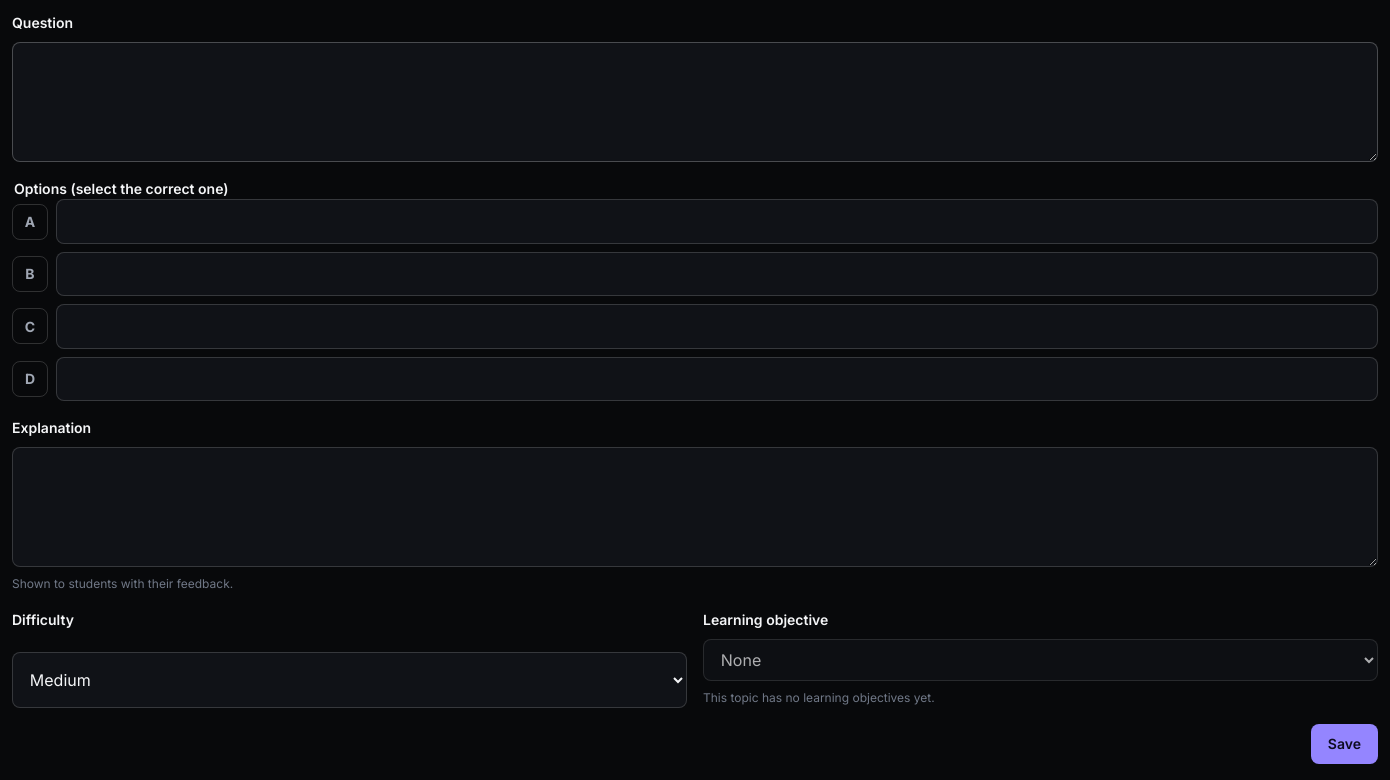
Test: Question editor › requires four different options and a correct answer
The width and height of the screenshot is (1390, 780).
Later steps or results of the test are not shown.
In the text box labelled "Question": (695, 102) [12,42,1378,162], type "What does Round Robin do on expiry?"
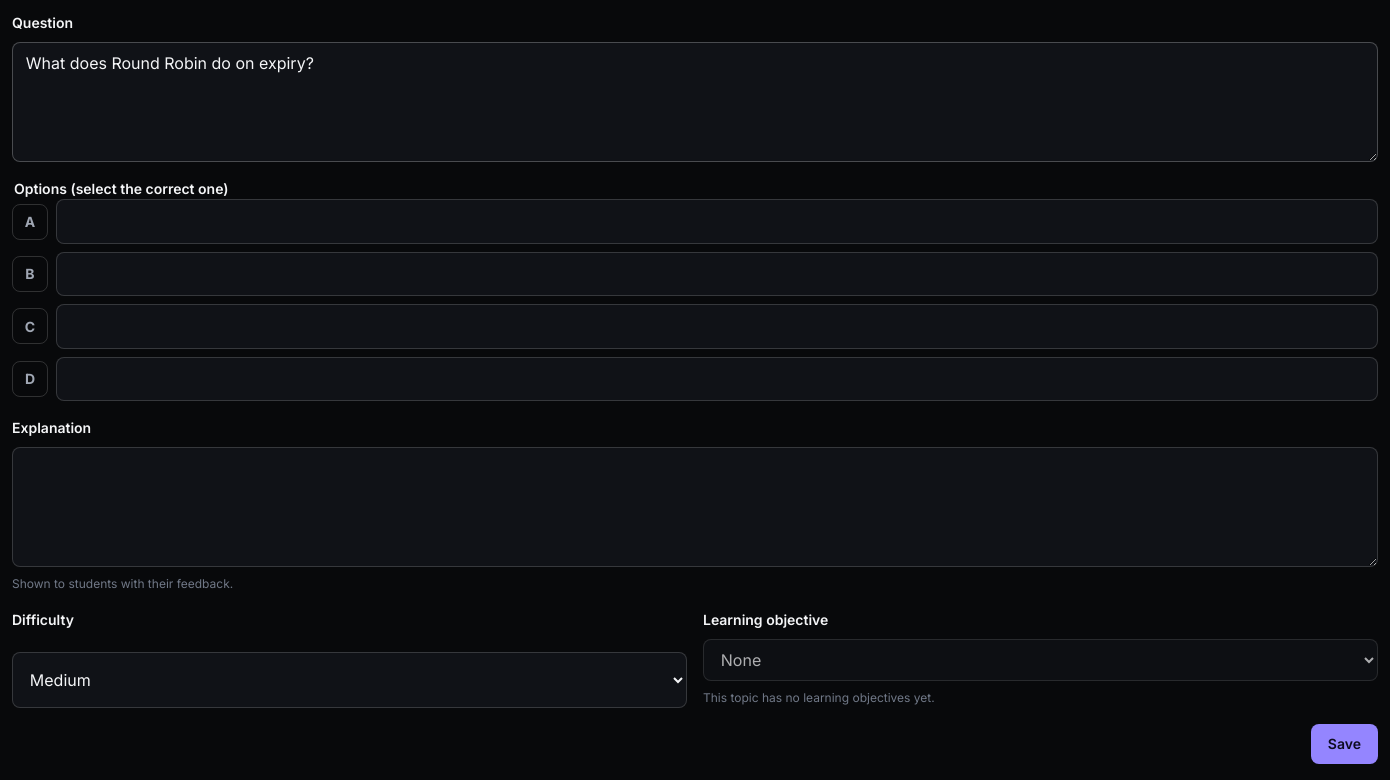
In the field named "Option A": (717, 222) [56,199,1378,244], type "Same"
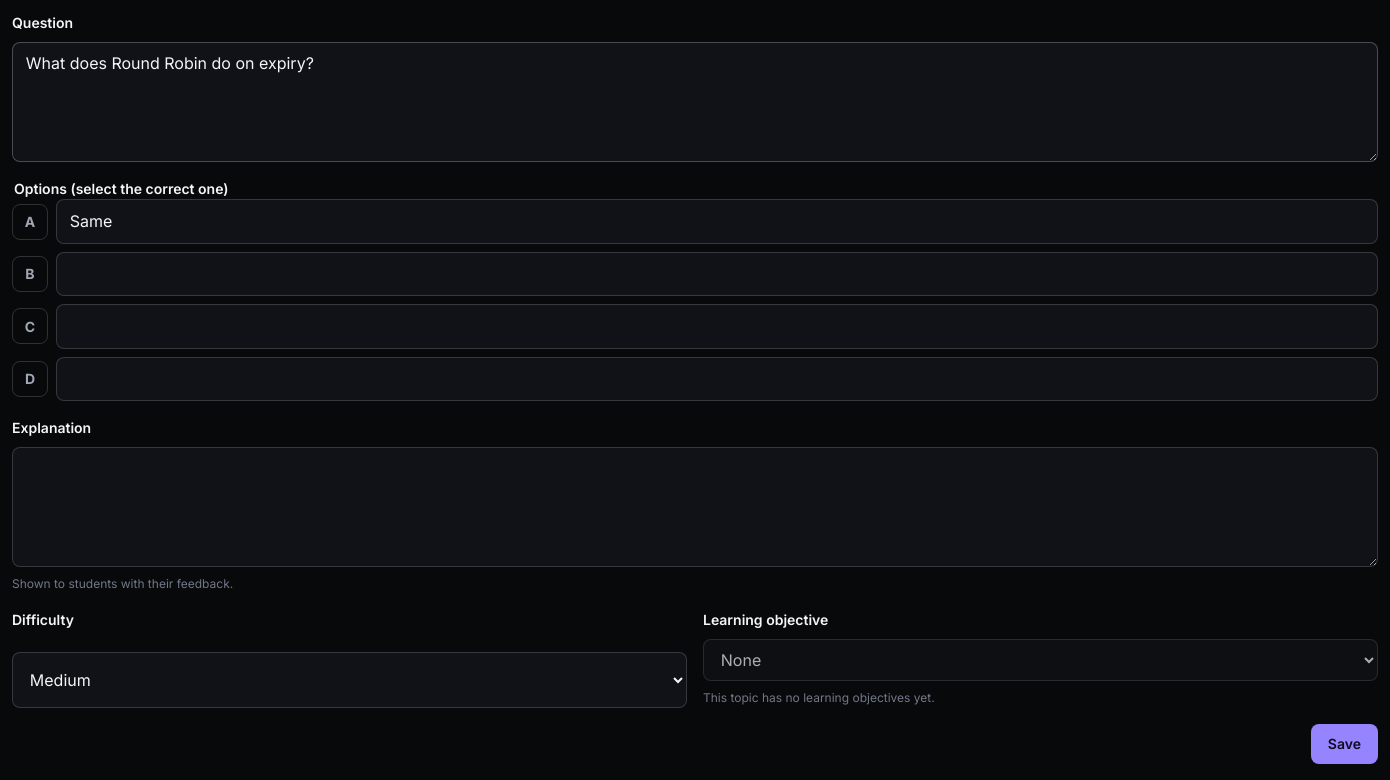
In the field named "Option B": (717, 274) [56,252,1378,296], type "Same"
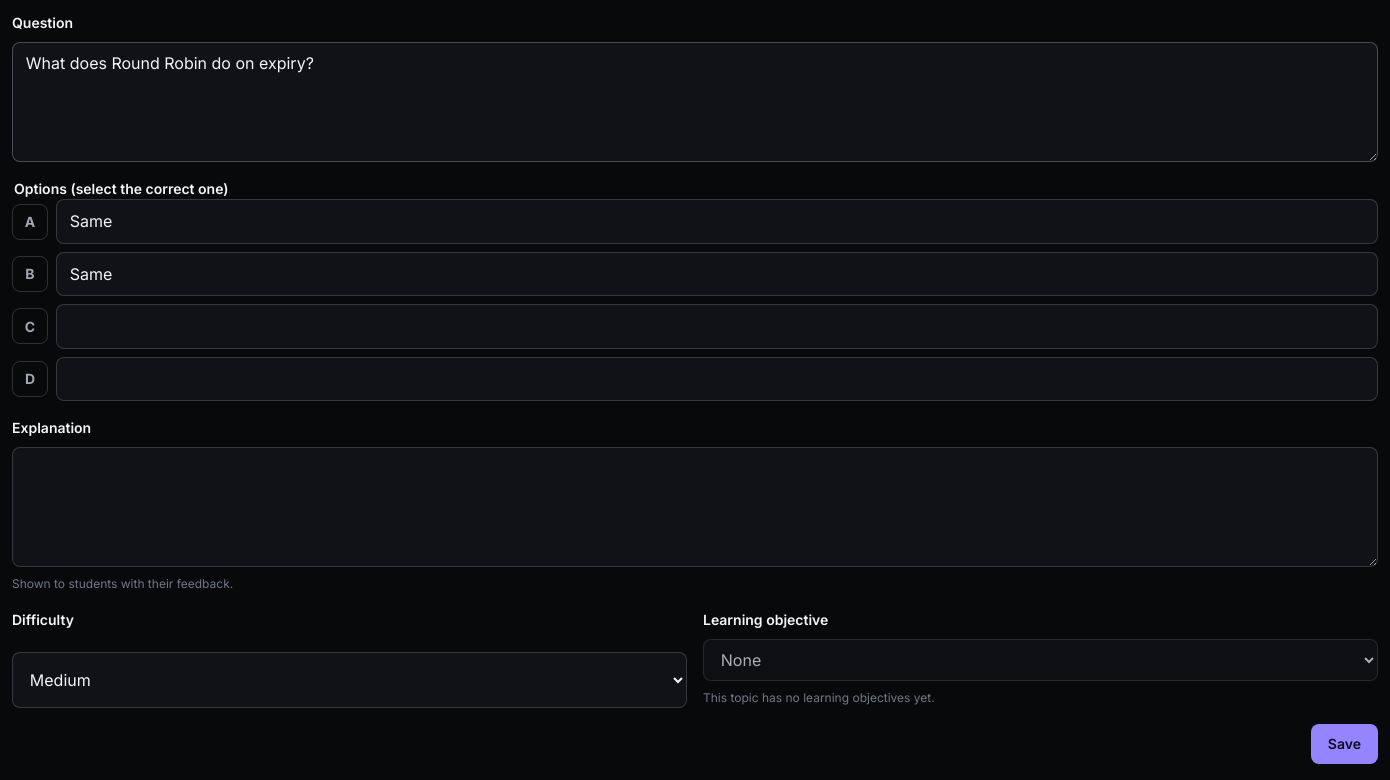
In the field named "Option C": (717, 326) [56,304,1378,349], type "Same"
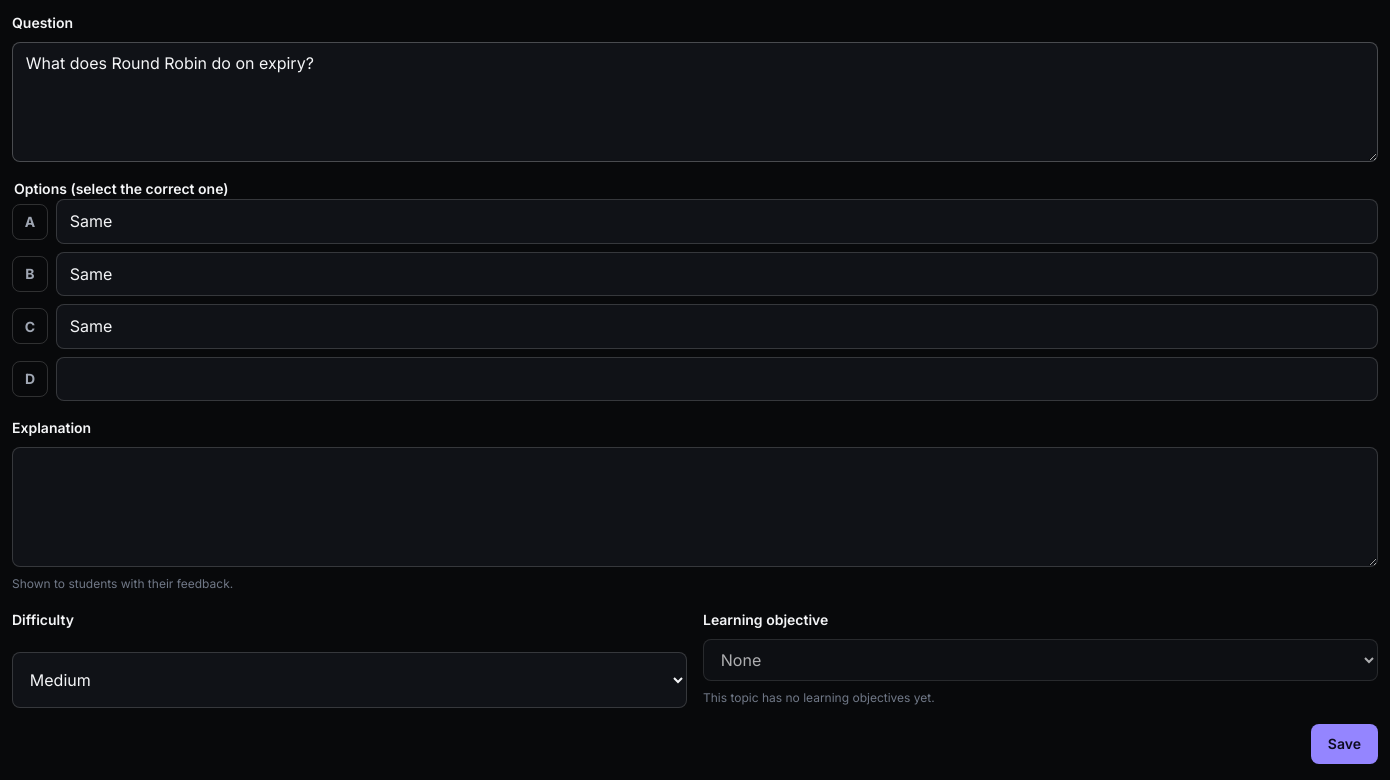
In the field named "Option D": (717, 379) [56,356,1378,401], type "Same"
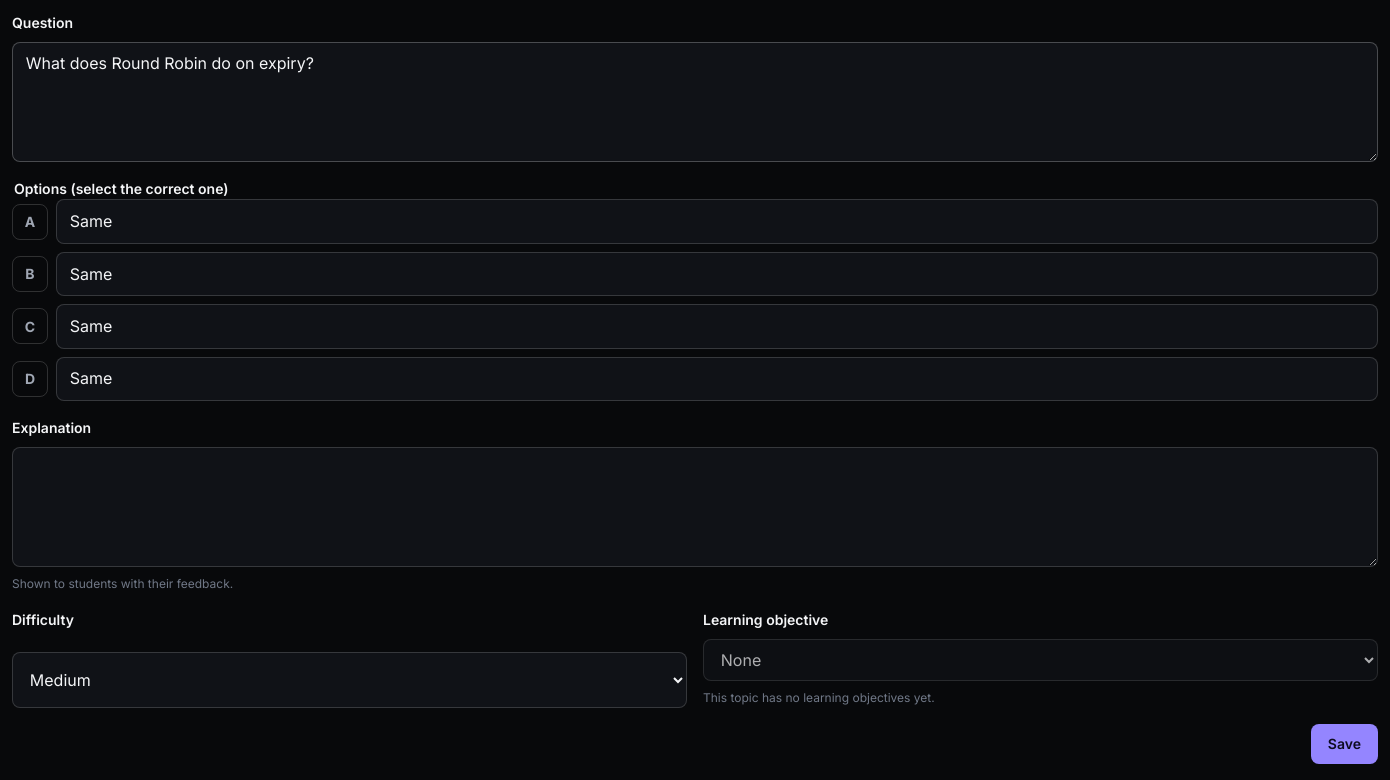
Click the button "Save": click(1344, 744) [1311,724,1378,764]
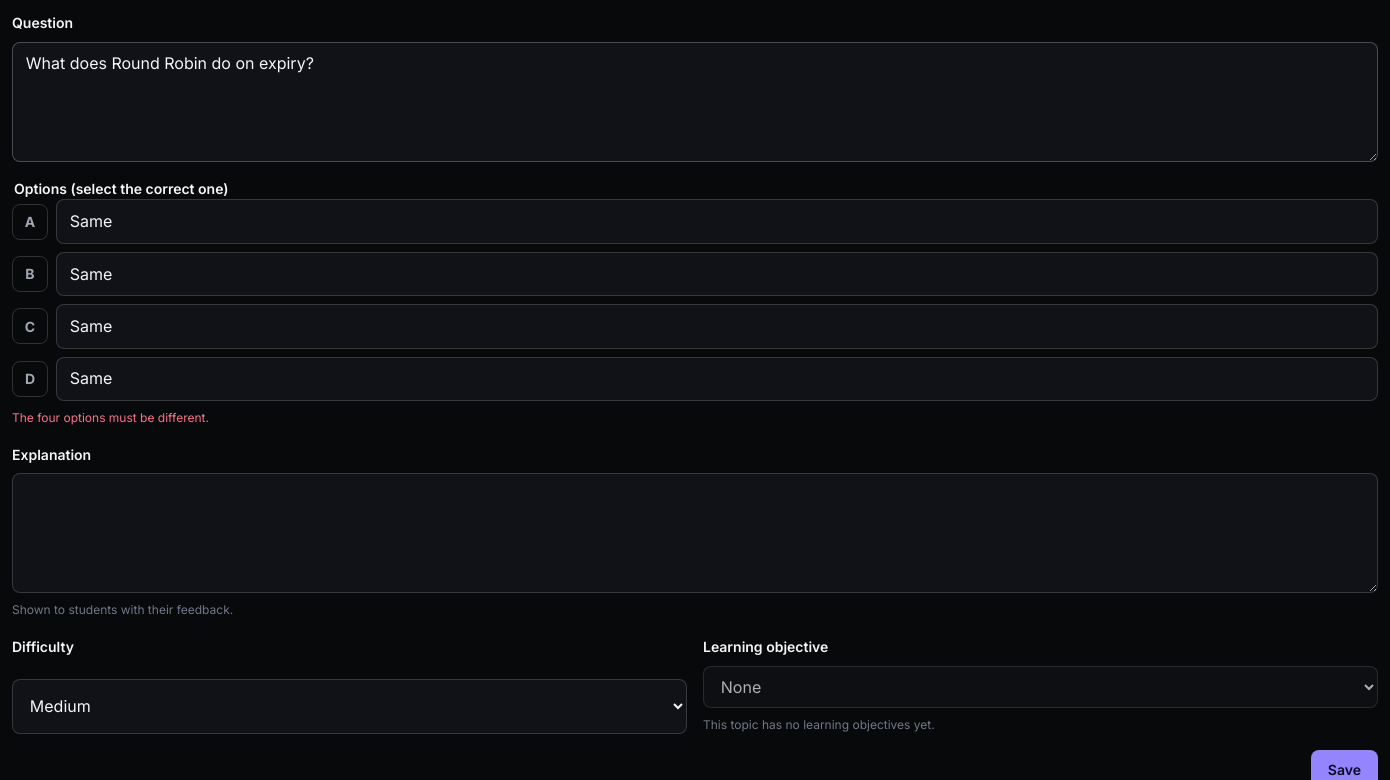
Now the text "The four options must be different." is shown, box [12,410,209,425]
